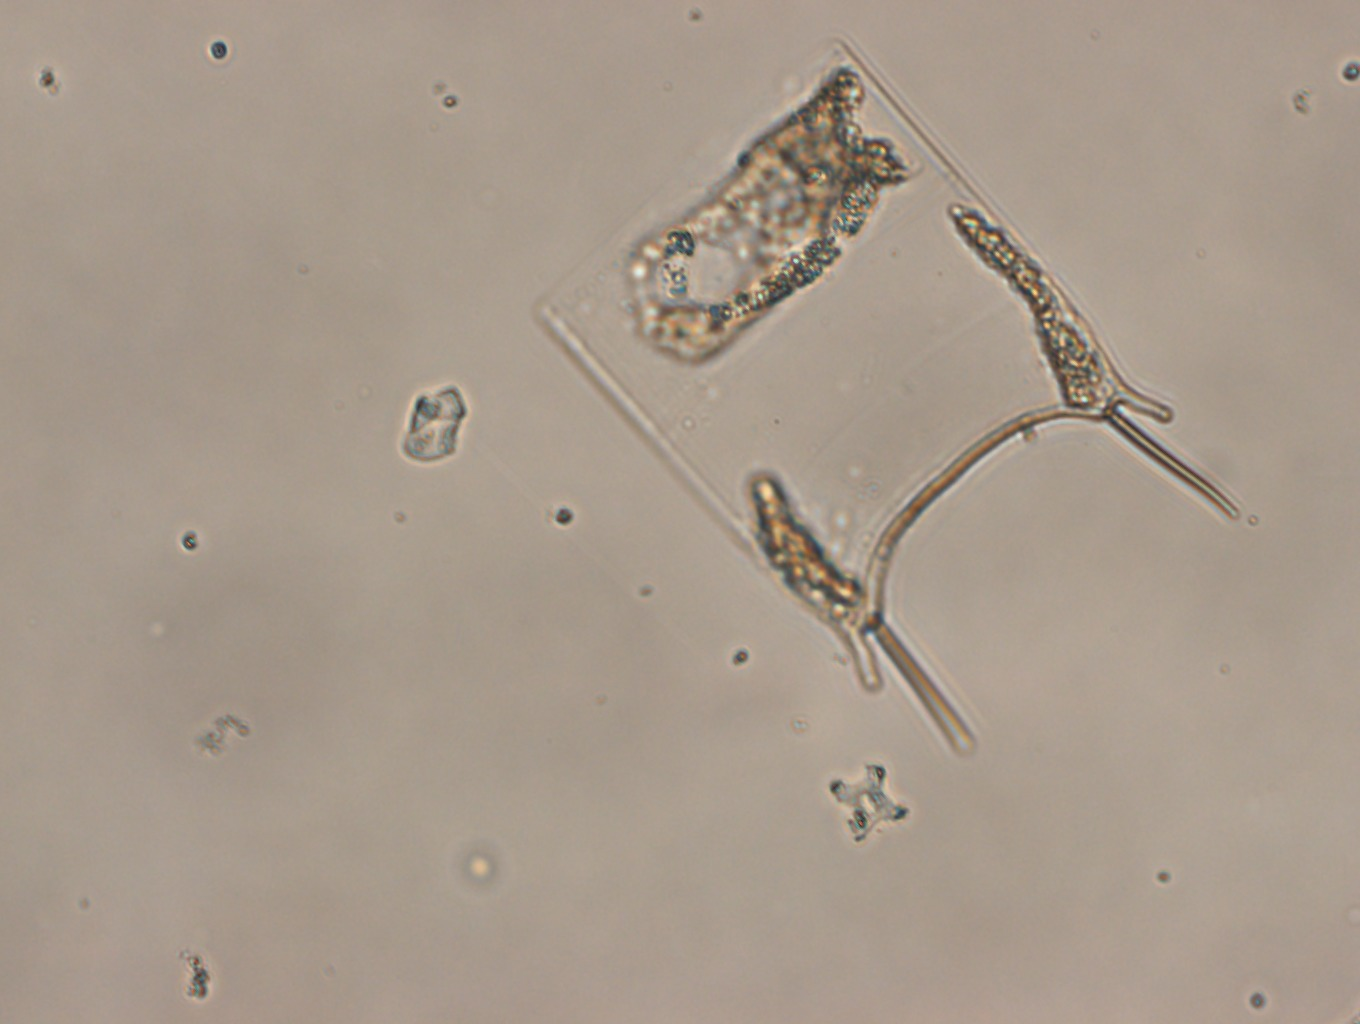biddulphia: (533, 40, 1243, 757)
